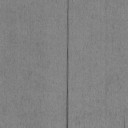surface scratch: (66, 0, 69, 128)
